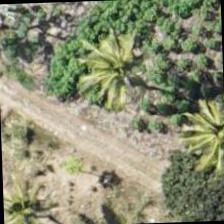Kelapa_Sawit: (65, 17, 158, 110), (168, 85, 223, 178), (2, 157, 61, 223)
